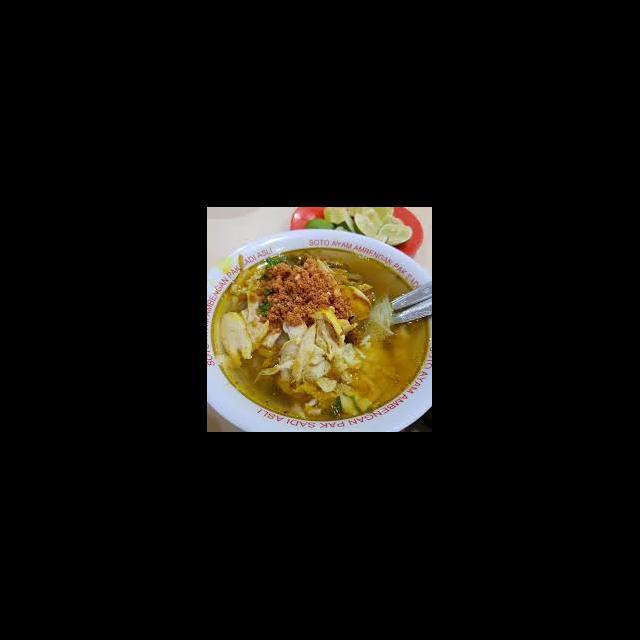Soto: (196, 211, 448, 411)
